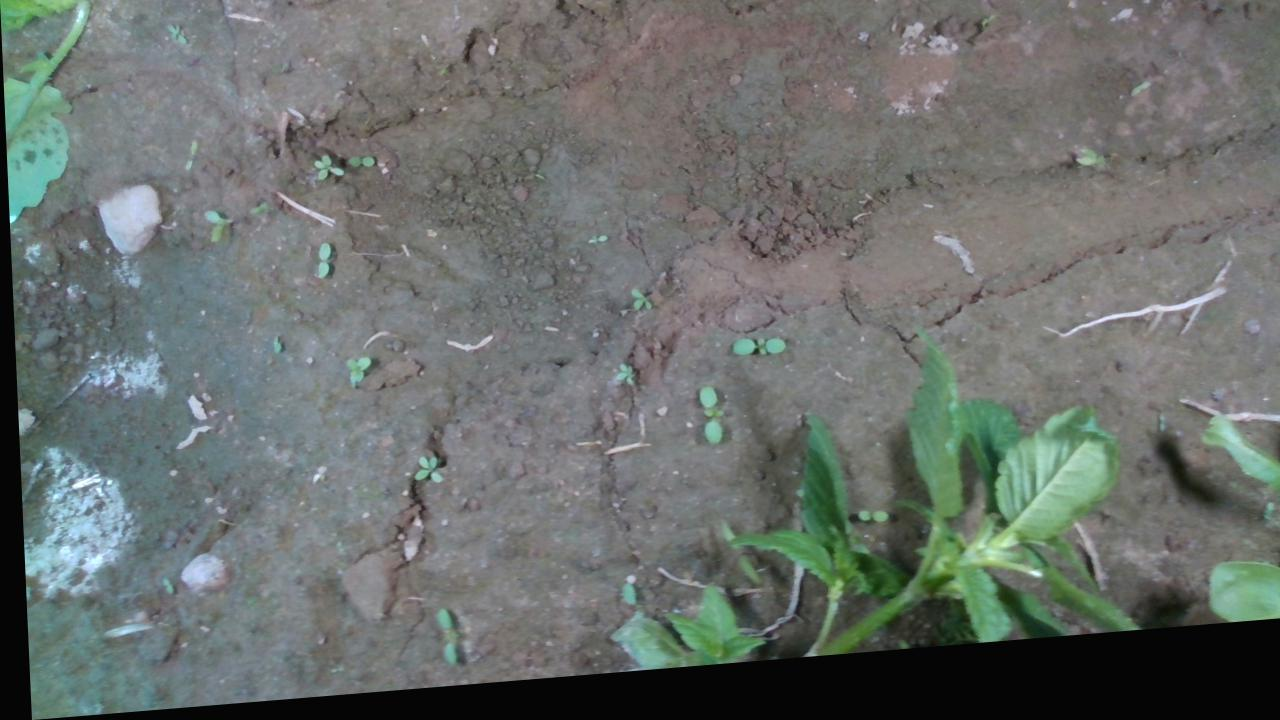weed: (692, 395, 722, 459), (426, 611, 452, 676), (726, 347, 784, 371), (339, 360, 370, 395), (200, 210, 226, 249), (309, 158, 342, 188), (407, 458, 437, 491), (310, 247, 330, 286), (178, 138, 198, 175), (850, 521, 885, 539), (625, 296, 649, 322), (609, 370, 632, 396), (341, 158, 374, 175), (583, 241, 605, 255)
